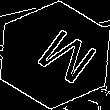M_SW: (18, 21, 92, 89)
